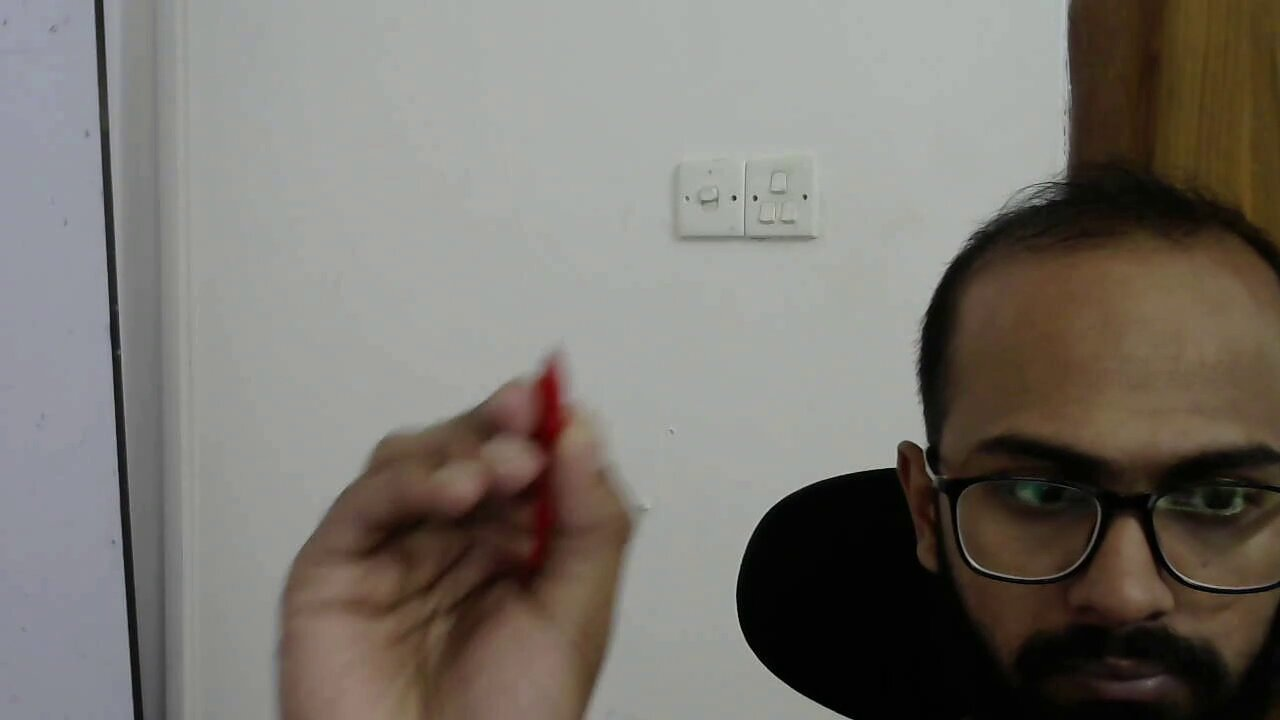pointer: (268, 359, 635, 720)
